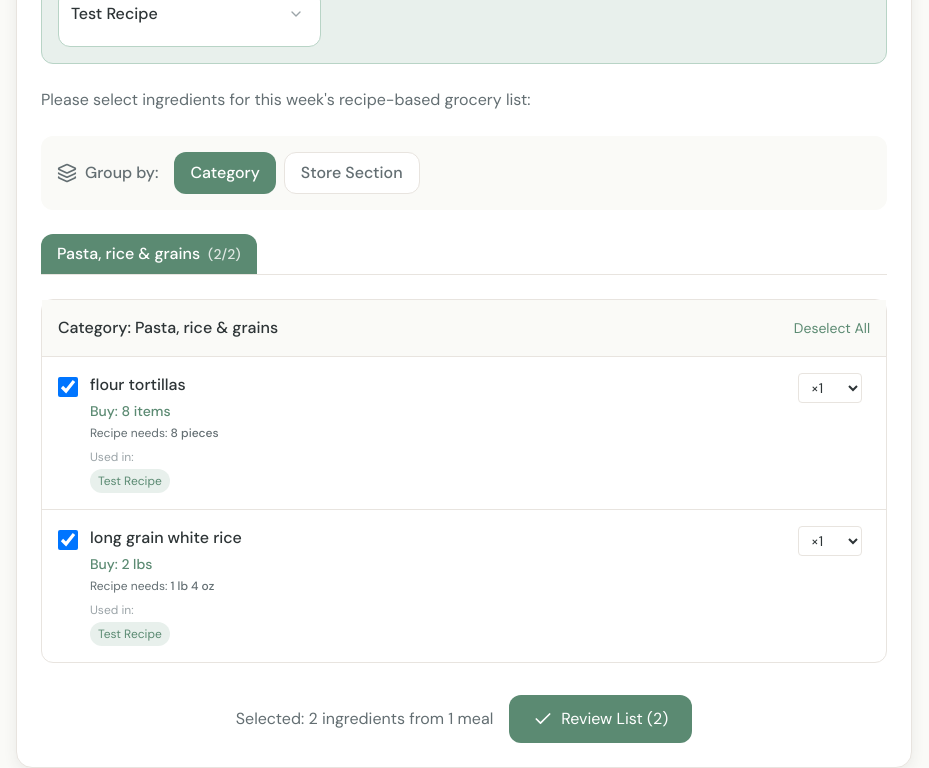
Scenario: RecipeIngredients quantity display › review screen shows "8 items", not "8 x 8 items"
(page scrolled)
Click the button "Review List (2)" at [601, 719], box [509,695,692,743]
(page scrolled)
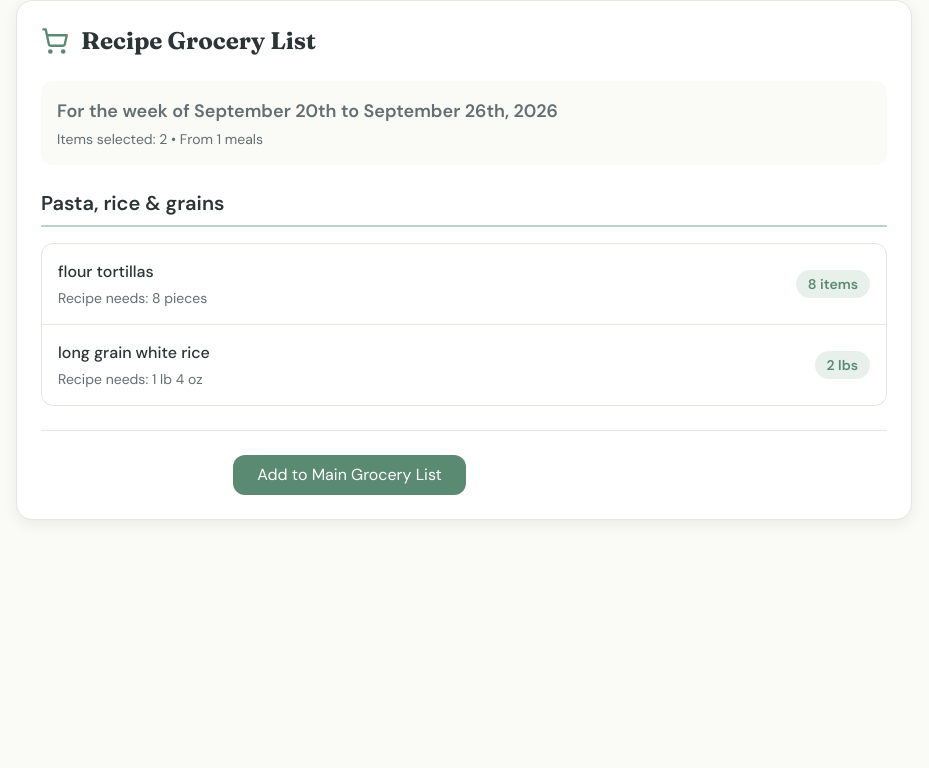
Expected: the text "8 items" is shown, [796,270,870,298]
Expected: the heading "Recipe Grocery List" is shown, [81,25,316,57]
